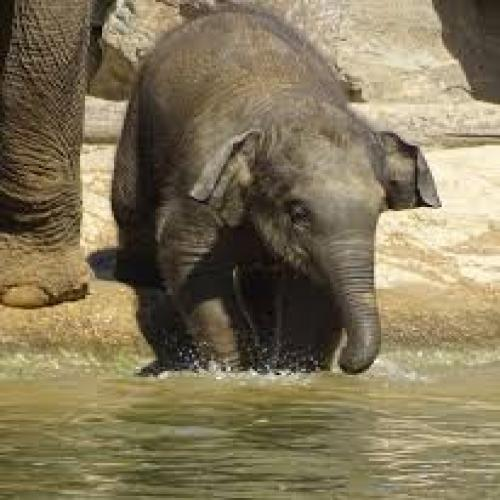asian_elephant-endangered: (112, 7, 440, 375), (0, 0, 103, 308)
